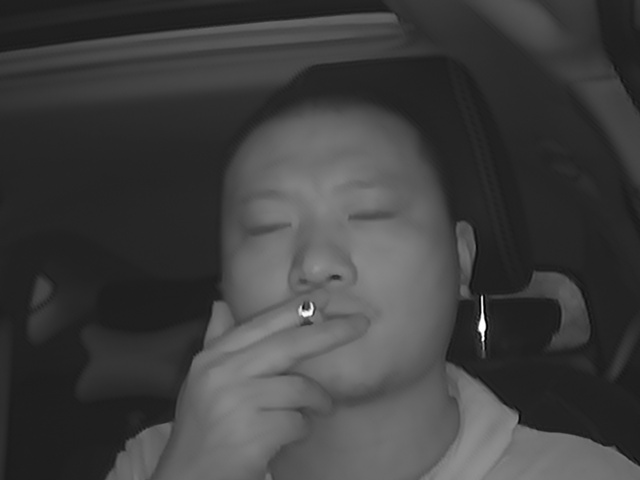hand: (219, 288, 371, 449)
